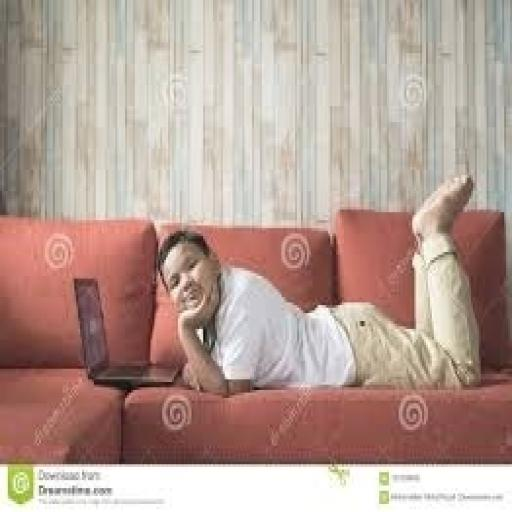using_laptop: (70, 273, 180, 390)
